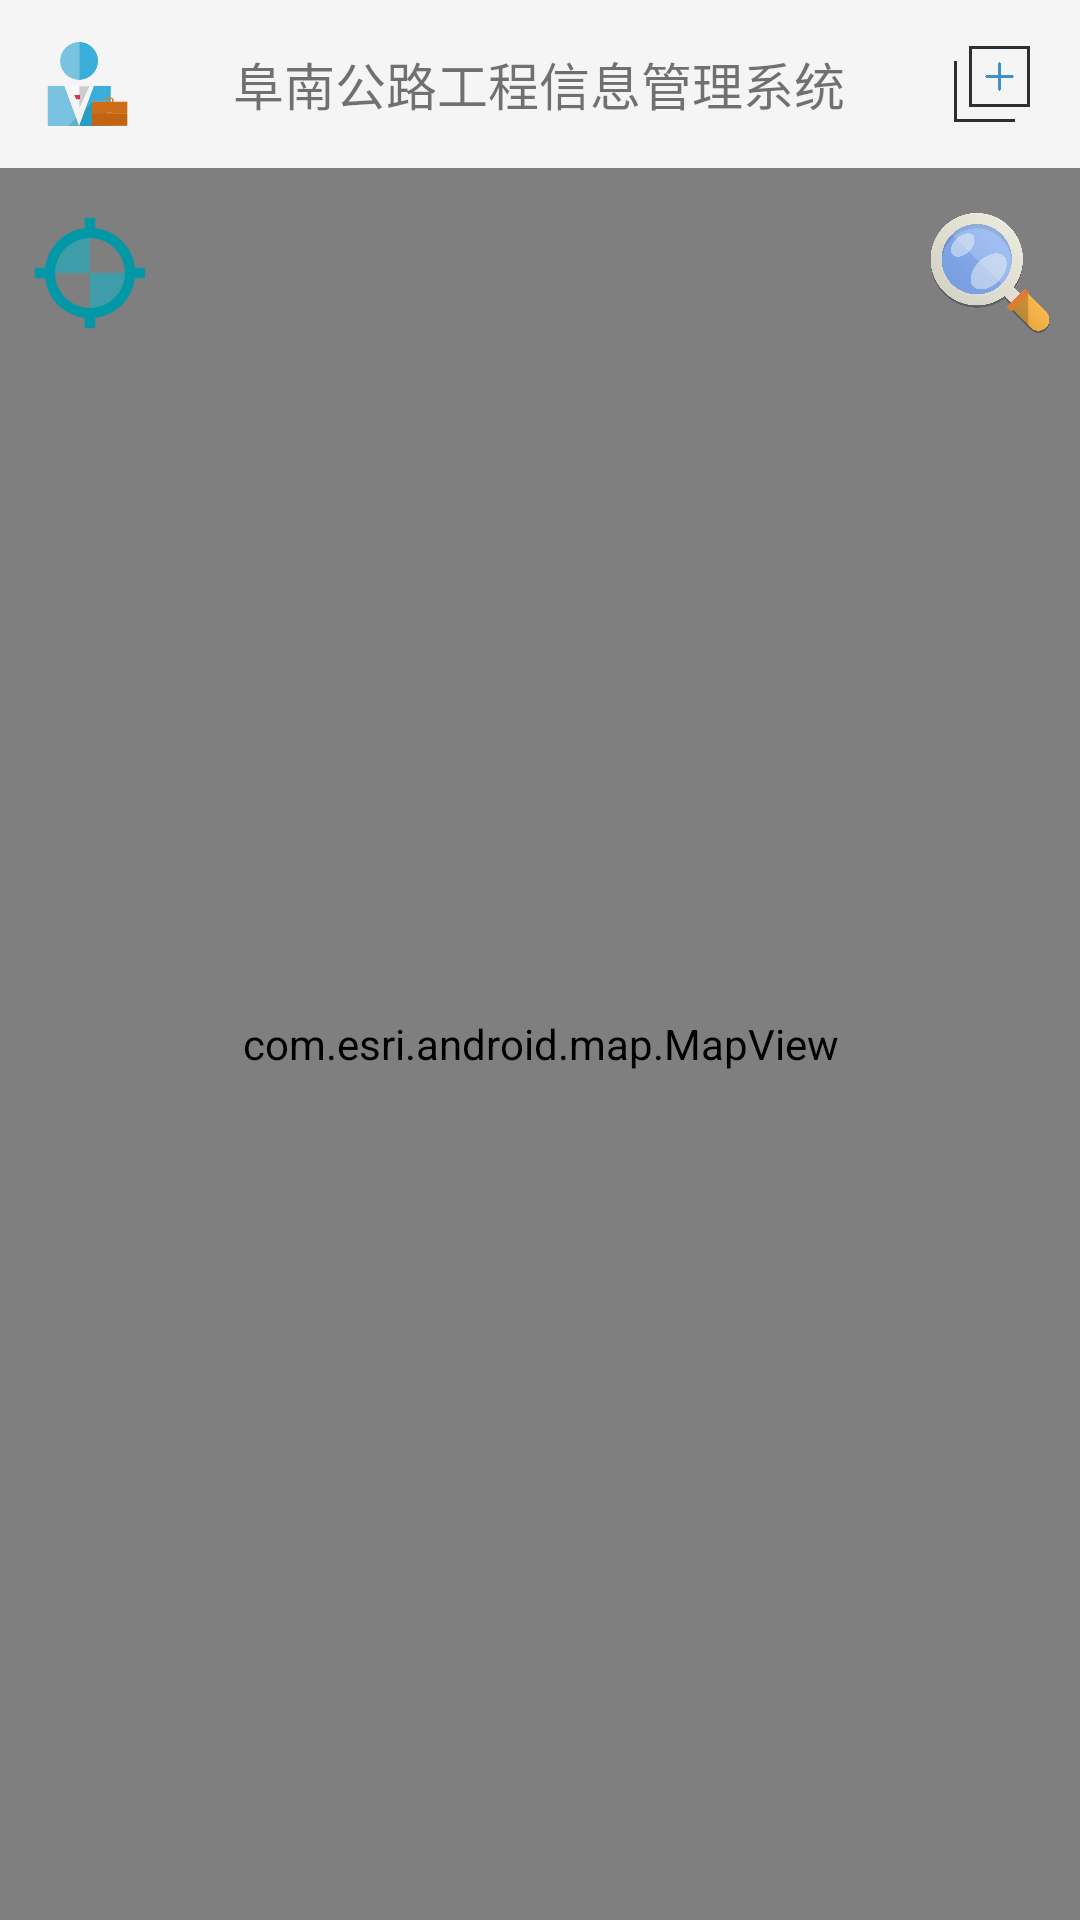

Where icons sit on this 1080×1920 app screen, as (x1, y1, x2, y2):
add project: (954, 46, 1030, 122)
location: (34, 217, 146, 329)
search: (931, 213, 1049, 333)
user manager: (47, 42, 128, 126)
